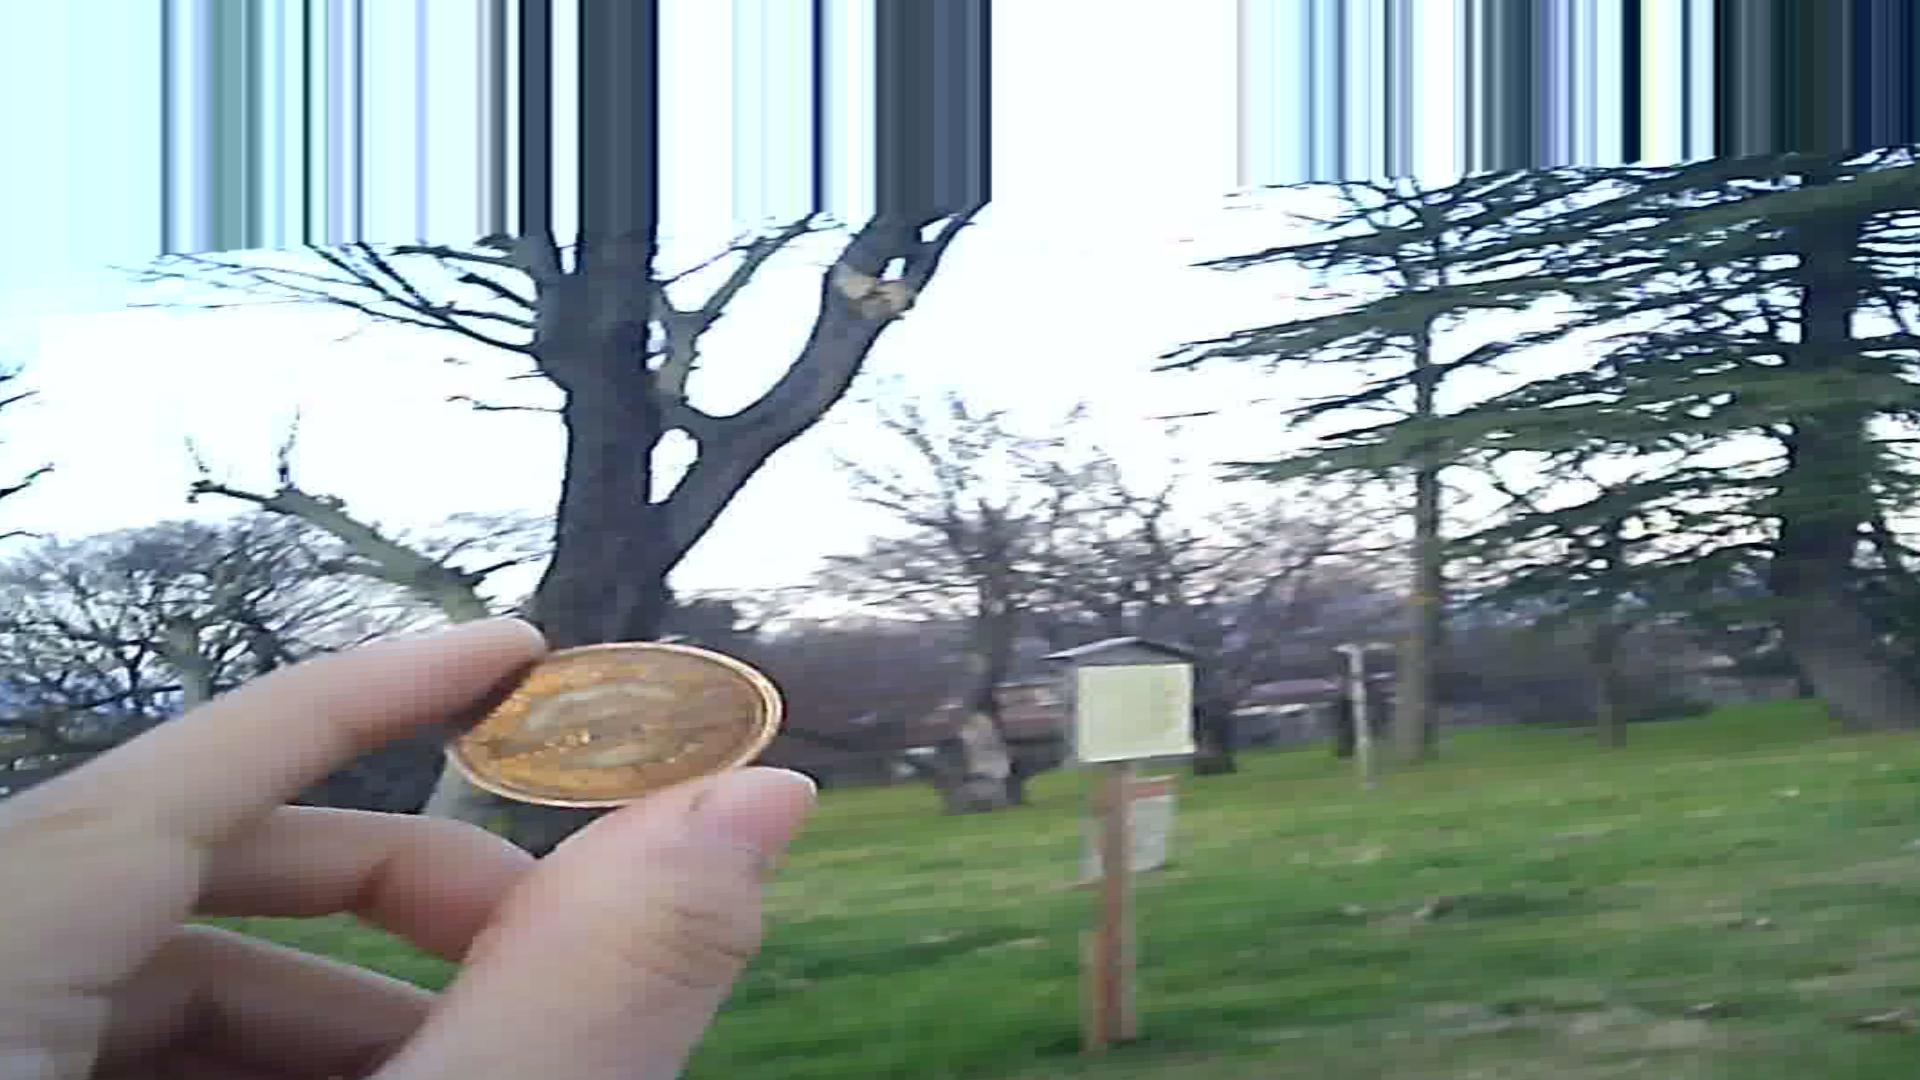10 Yen: (448, 630, 771, 837)
